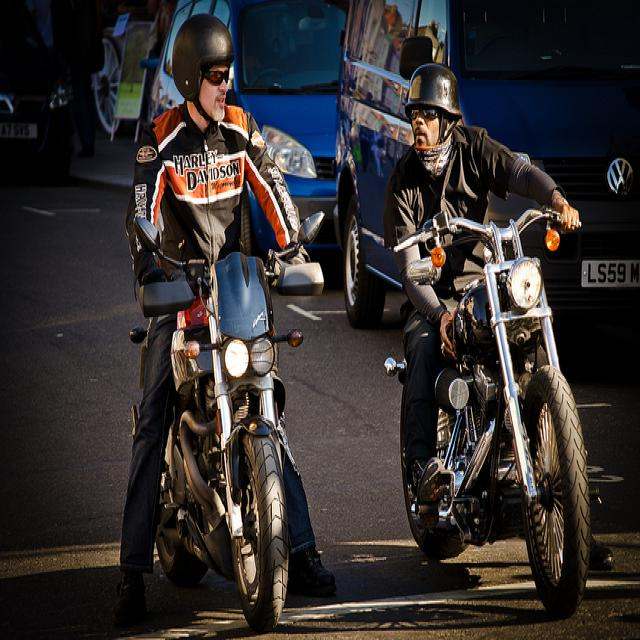motor: (125, 208, 326, 631), (385, 208, 591, 614)
